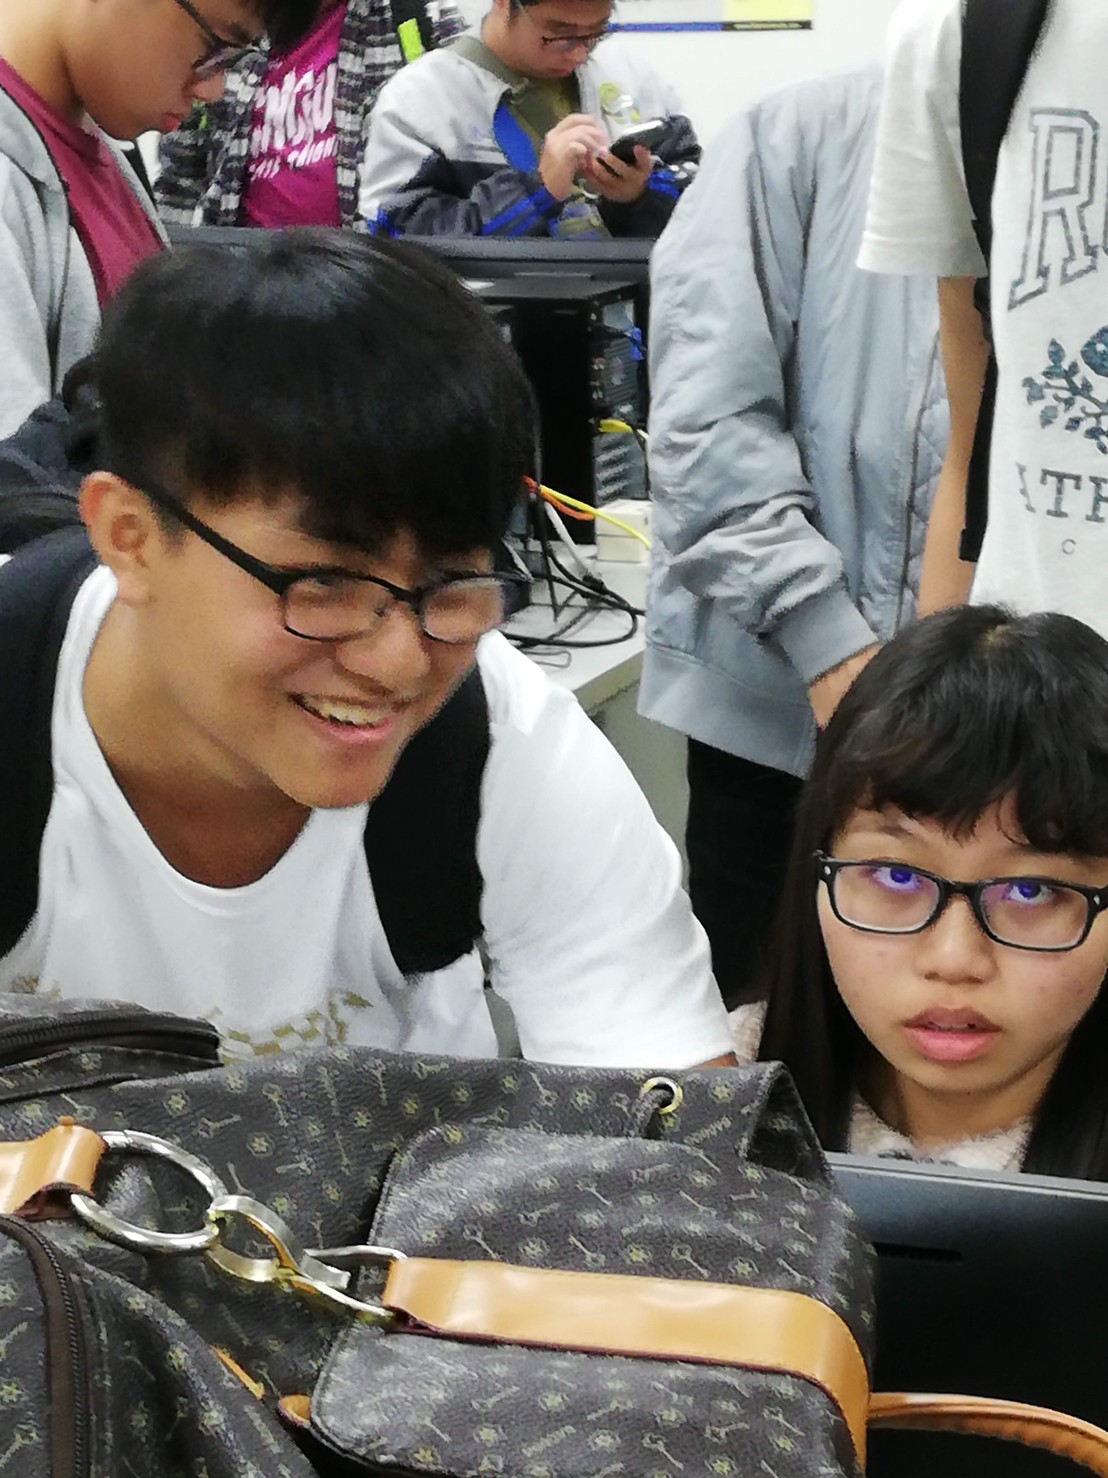people: (64, 226, 514, 1073), (802, 578, 1108, 1209), (1, 1, 324, 350), (347, 7, 719, 238)
